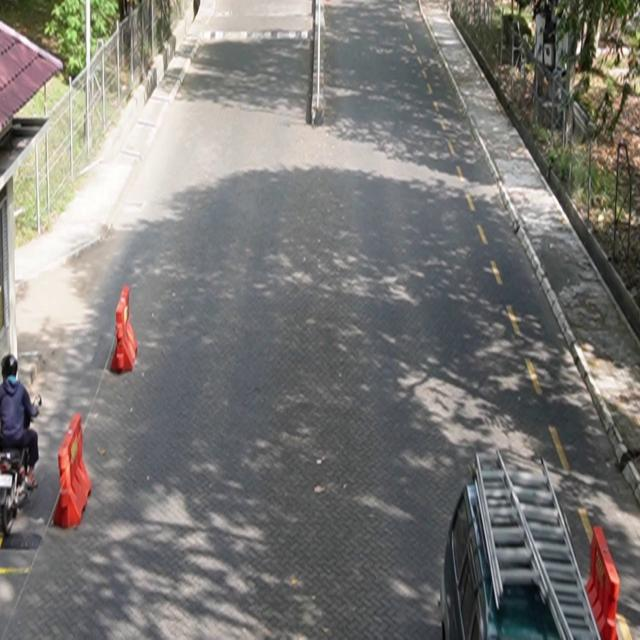bus: (440, 449, 623, 640)
